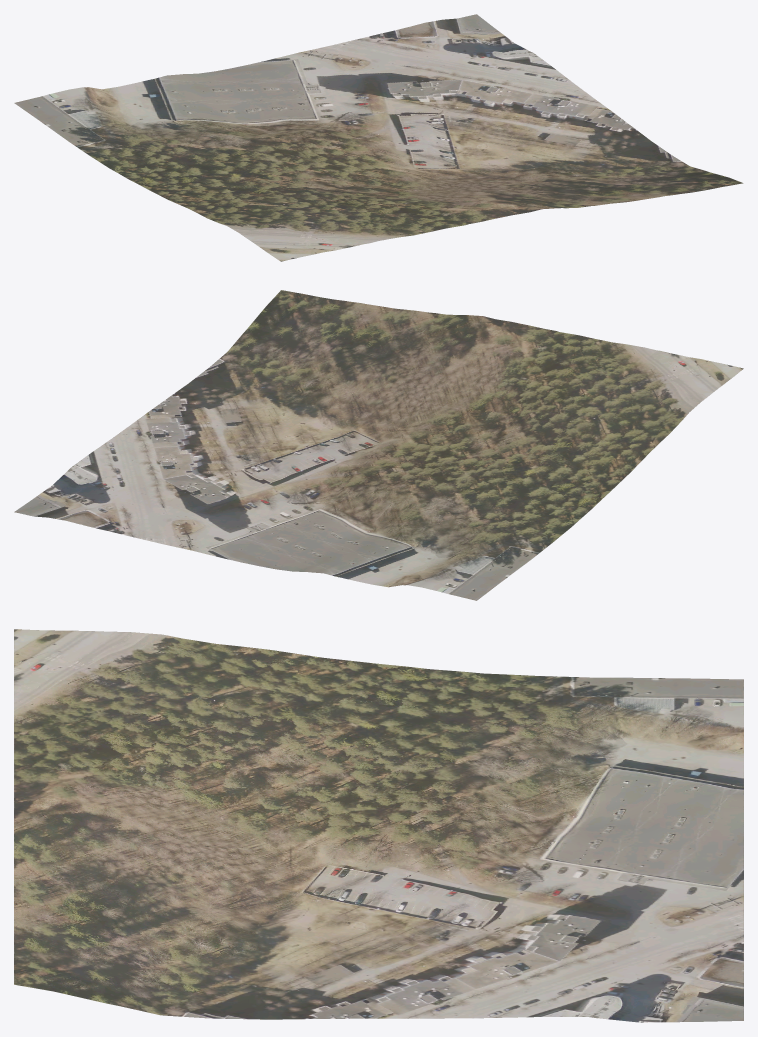
The model's file is CM_Terrain_24489639_6820408.fbx.
3 renders of one model, top to bottom at view 1: azimuth 30°, elevation 25°; view 2: azimuth 150°, elevation 25°; view 3: azimuth 270°, elevation 25°, orthographic. The views are drawn at different scales.
Visible parts, largest first — view 1: CM_Terrain_24489639_6820408_LOD0; view 2: CM_Terrain_24489639_6820408_LOD0; view 3: CM_Terrain_24489639_6820408_LOD0.
Part boxes in pixels (box(x1,y1,x2,y2)): CM_Terrain_24489639_6820408_LOD0: box(14, 14, 743, 261); CM_Terrain_24489639_6820408_LOD0: box(14, 290, 743, 600); CM_Terrain_24489639_6820408_LOD0: box(14, 629, 743, 1022).
Size of what is drawn, in the model's own units: 205 by 27 by 205.
